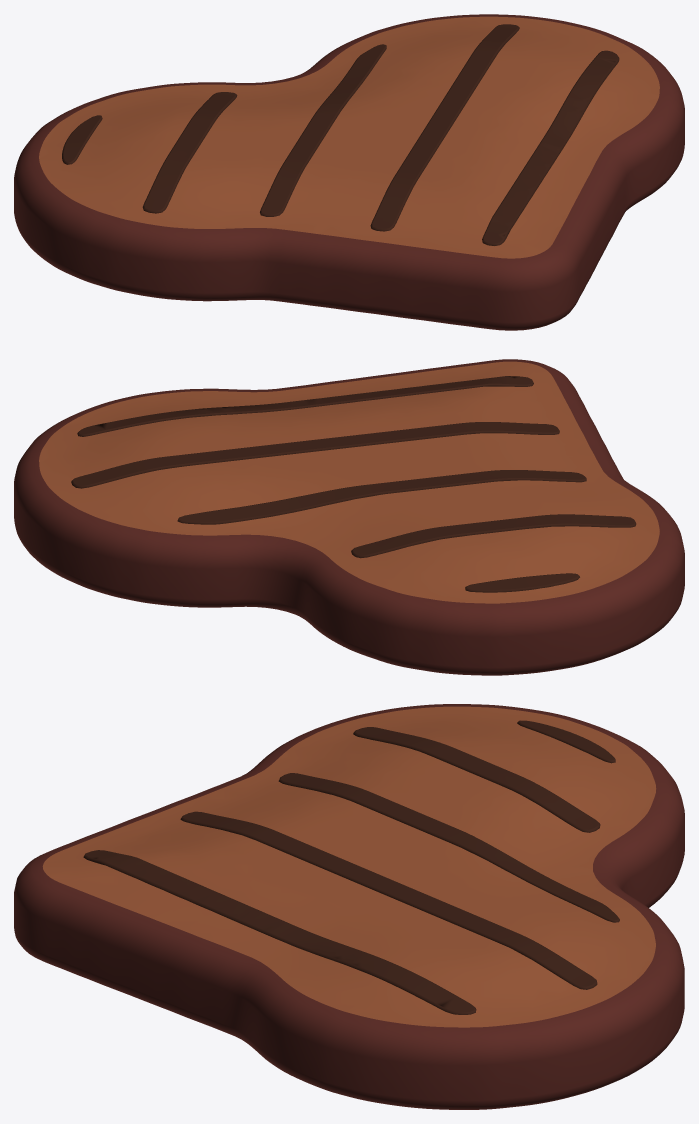
The model's file is PrimeCutHeart.obj.
3 views of the same model, one above another, from view 1: azimuth 30°, elevation 25°; view 2: azimuth 150°, elevation 25°; view 3: azimuth 270°, elevation 25° (orthographic). The views are drawn at different scales.
Visible parts, largest first — view 1: Meat, Crust, Marks; view 2: Meat, Crust, Marks; view 3: Meat, Crust, Marks.
Part boxes in pixels (x1,y1,x2,y2): Meat: [39, 16, 659, 258]; Crust: [14, 14, 684, 330]; Marks: [62, 24, 619, 245]; Meat: [39, 361, 659, 603]; Crust: [14, 359, 684, 675]; Marks: [71, 376, 636, 592]; Meat: [42, 706, 656, 1027]; Crust: [14, 704, 684, 1109]; Marks: [83, 720, 619, 1014].
Bounding box in the file's own units: 14.19 × 1.77 × 11.66.
